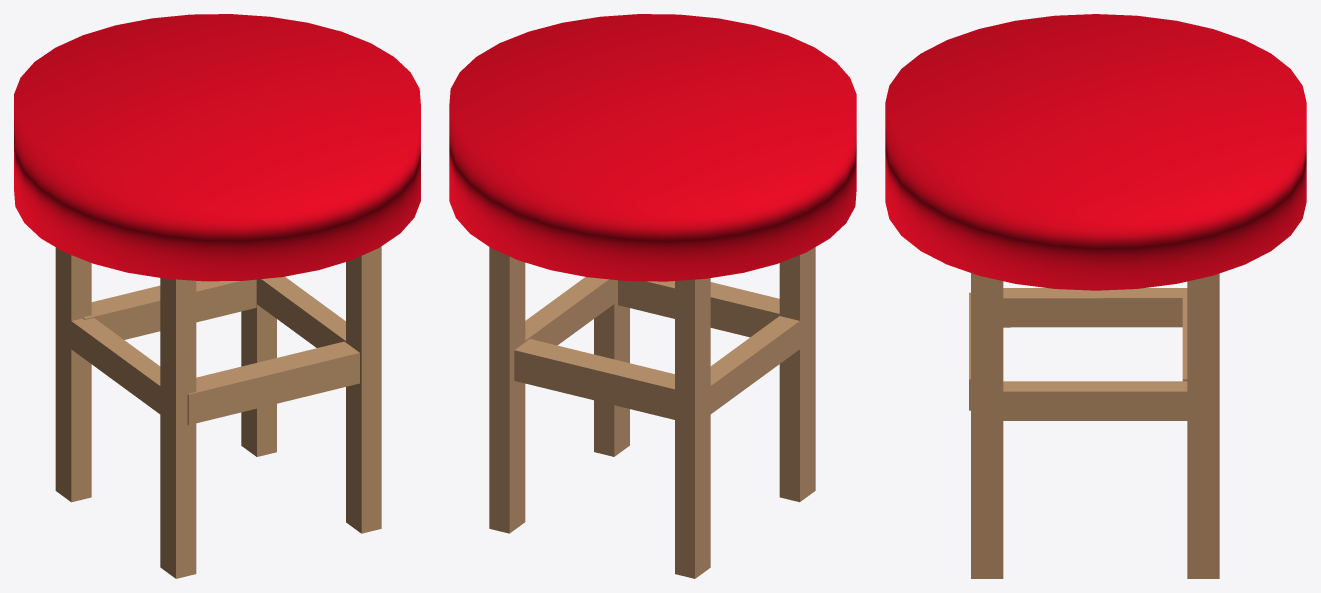
Rendered from Barstool.fbx.
3 views of the same model, side by side, from view 1: azimuth 30°, elevation 25°; view 2: azimuth 150°, elevation 25°; view 3: azimuth 270°, elevation 25° (orthographic). The views are drawn at different scales.
Visible parts, largest first — view 1: Cylinder, Cube.002, Cube.001, Cube.003, Cube; view 2: Cylinder, Cube.002, Cube.001, Cube, Cube.003; view 3: Cylinder, Cube.001, Cube.002, Cube.
Boxes of the visible parts, x1,y1,x2,y2 form: Cylinder: [14, 14, 420, 281]; Cube.002: [55, 247, 196, 578]; Cube.001: [241, 246, 381, 533]; Cube.003: [187, 341, 359, 425]; Cube: [83, 279, 256, 339]; Cylinder: [449, 14, 856, 281]; Cube.002: [675, 247, 815, 578]; Cube.001: [489, 247, 629, 533]; Cube: [514, 339, 674, 419]; Cube.003: [618, 280, 779, 337]; Cylinder: [885, 14, 1306, 290]; Cube.001: [971, 273, 1219, 578]; Cube.002: [1003, 288, 1187, 327]; Cube: [1182, 292, 1187, 381].
Bounding box in the file's own units: 200 × 222 × 200.
